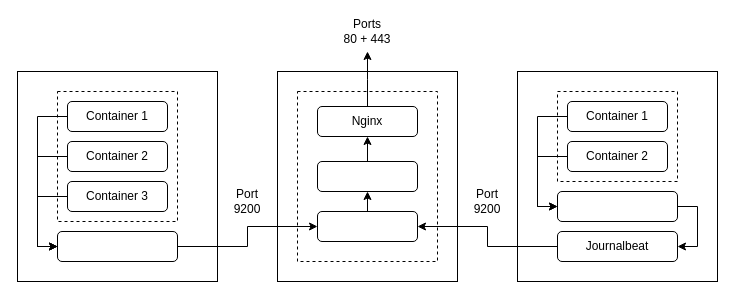
This 735x307 diagram has some shape labels left out. The centre of each missing label's shape, as x and y in pixels:
Elasticsearch: (x=367, y=226)
Filebeat: (x=117, y=246)
journald: (x=617, y=206)
Kibana: (x=367, y=176)
